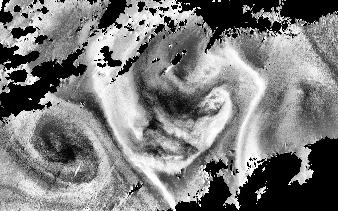CE: (22, 108, 108, 187)
